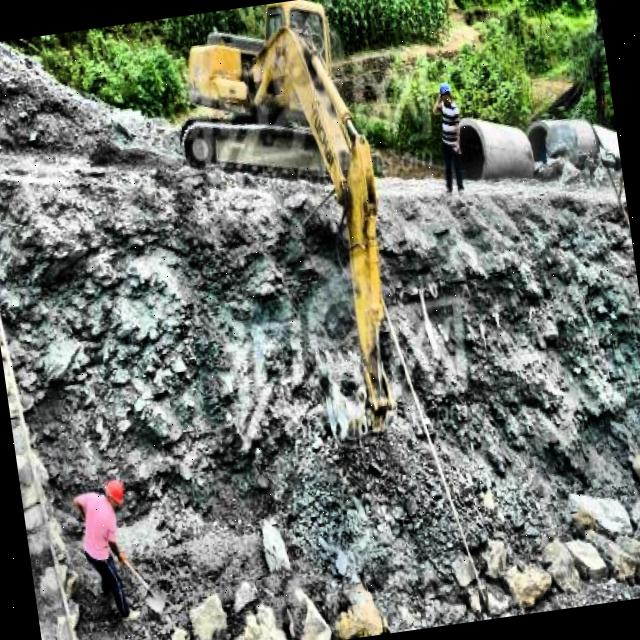helmet: (102, 477, 130, 513), (435, 78, 455, 108)
